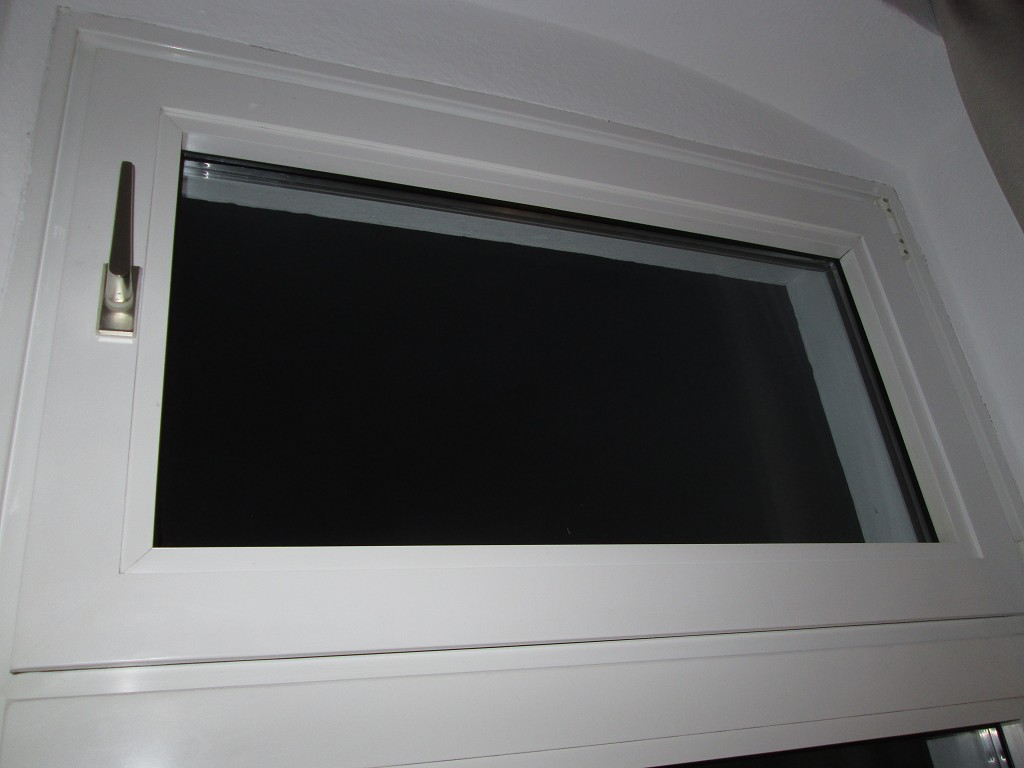windows: (64, 28, 1024, 609)
